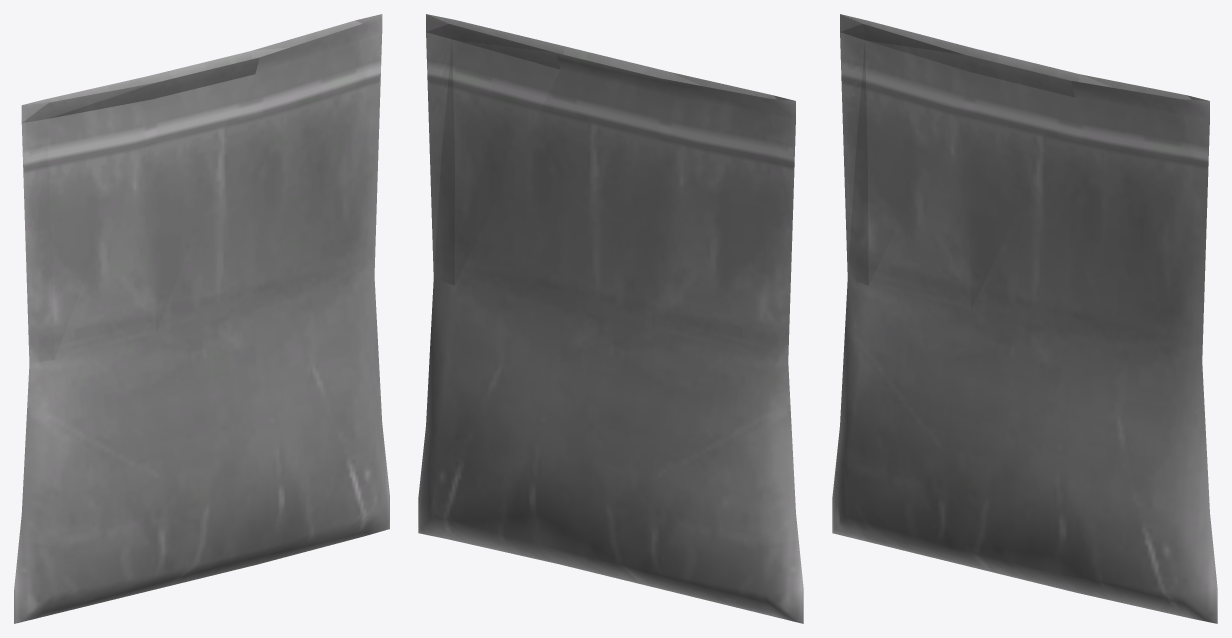
Rendered from Coke Baggie.fbx.
The picture shows the model from 3 angles, left to right: view 1: azimuth 30°, elevation 25°; view 2: azimuth 150°, elevation 25°; view 3: azimuth 330°, elevation 25°; orthographic projection.
Visible parts, largest first — view 1: Coke Baggie; view 2: Coke Baggie; view 3: Coke Baggie.
Part boxes in pixels (bbox=[...]): Coke Baggie: bbox=[14, 14, 389, 623]; Coke Baggie: bbox=[418, 14, 803, 623]; Coke Baggie: bbox=[832, 14, 1217, 623].
Bounding box in the file's own units: 9.67 × 12.6 × 1.76.
Materials: 2 (2 with a texture image).
